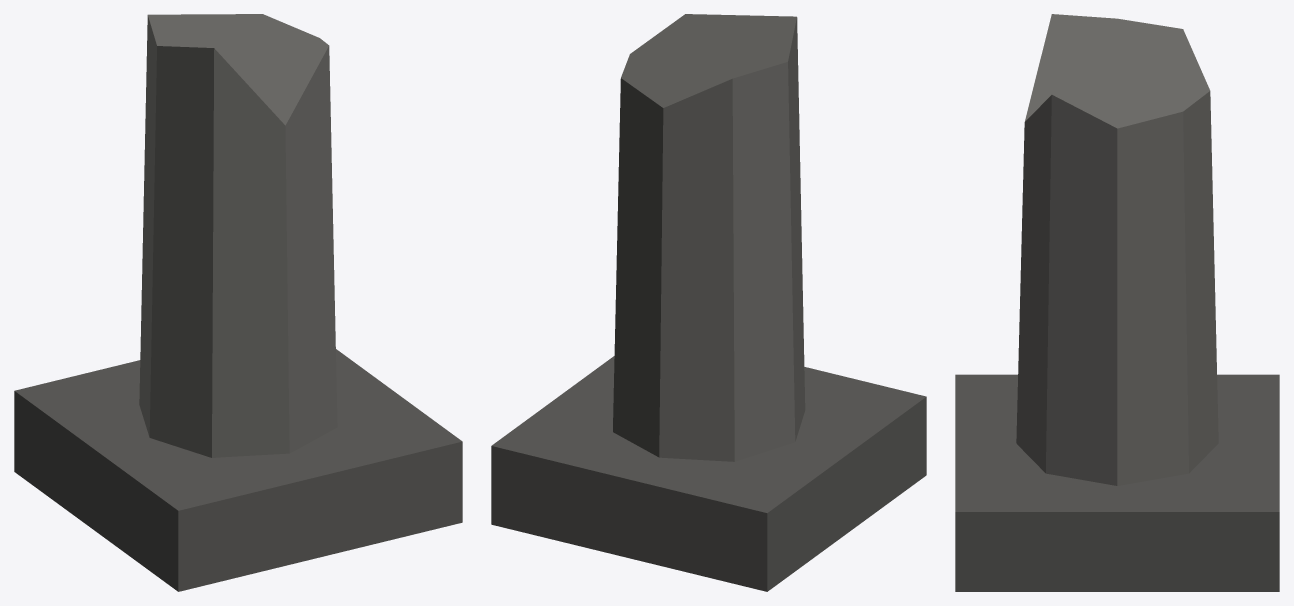
The model's file is ruin_pillar.glb.
3 renders of one model, left to right at view 1: azimuth 30°, elevation 25°; view 2: azimuth 150°, elevation 25°; view 3: azimuth 270°, elevation 25°, orthographic. The views are drawn at different scales.
Parts seen in each view (by area): view 1: ruin_pillar; view 2: ruin_pillar; view 3: ruin_pillar.
Boxes of the visible parts, bbox=[...] form: ruin_pillar: bbox=[14, 14, 462, 591]; ruin_pillar: bbox=[491, 14, 926, 591]; ruin_pillar: bbox=[955, 14, 1279, 591].
Bounding box in the file's own units: 1.1 × 1.8 × 1.1.
Materials: 1 (1 with a texture image).
